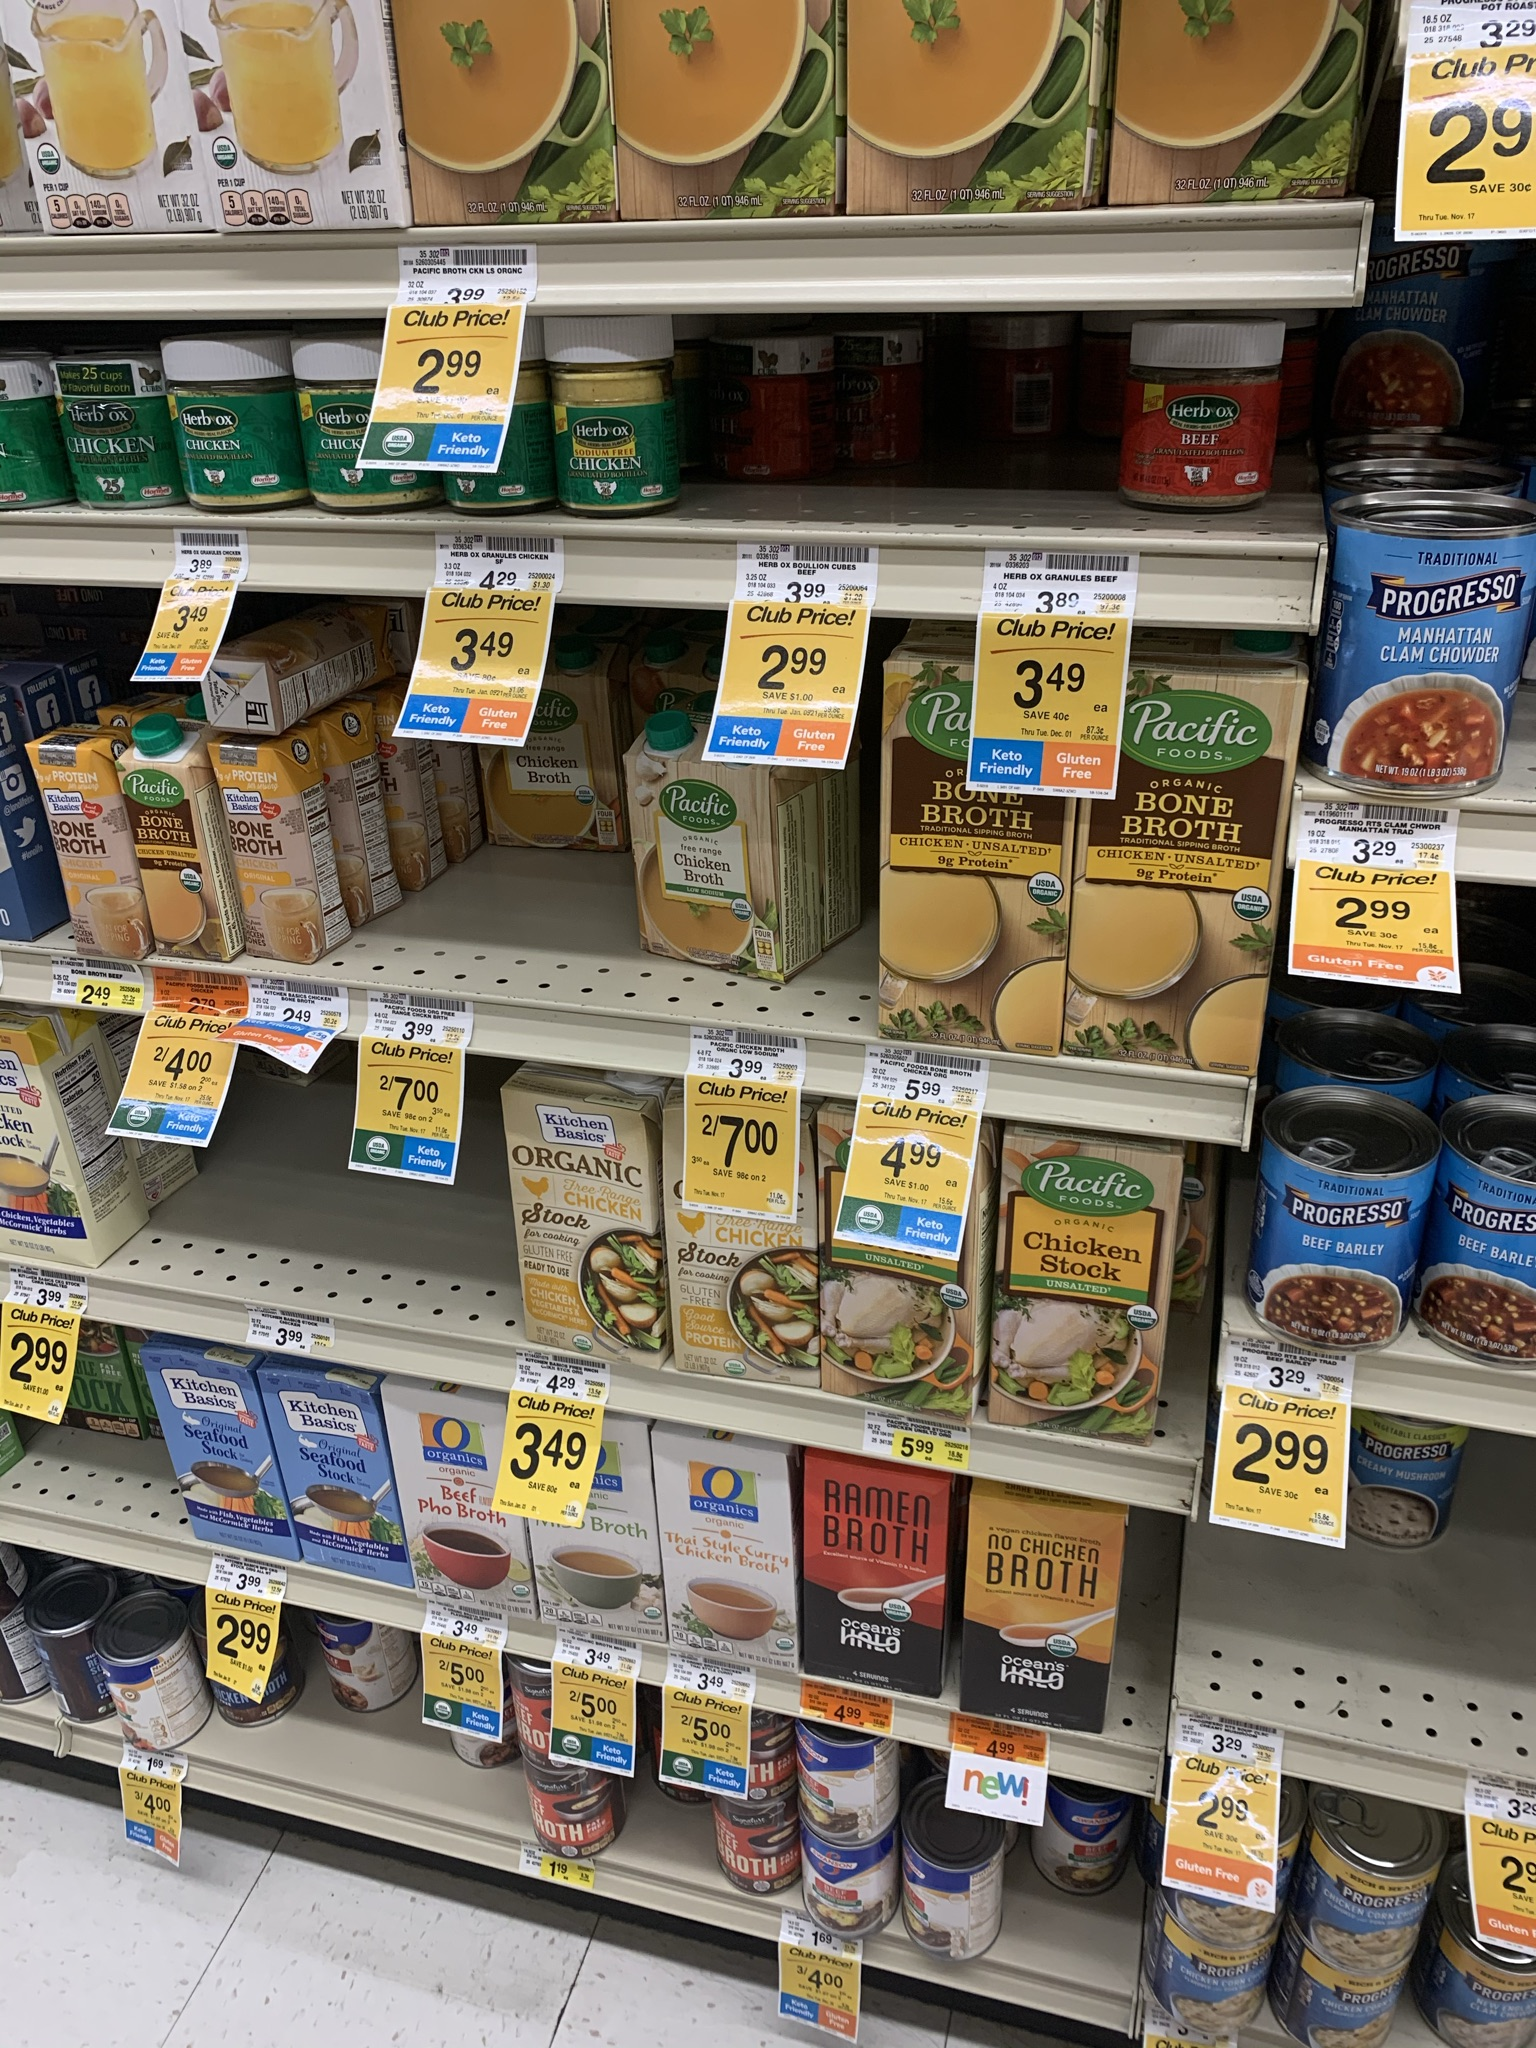can: (1347, 526, 1497, 797), (1284, 1142, 1391, 1350), (1450, 1161, 1536, 1355), (1155, 1927, 1267, 2037), (1333, 1834, 1418, 1974), (1352, 1430, 1452, 1543), (803, 1738, 892, 1842), (106, 1638, 184, 1753), (912, 1843, 987, 1958), (324, 1625, 399, 1708), (812, 1861, 884, 1930)
